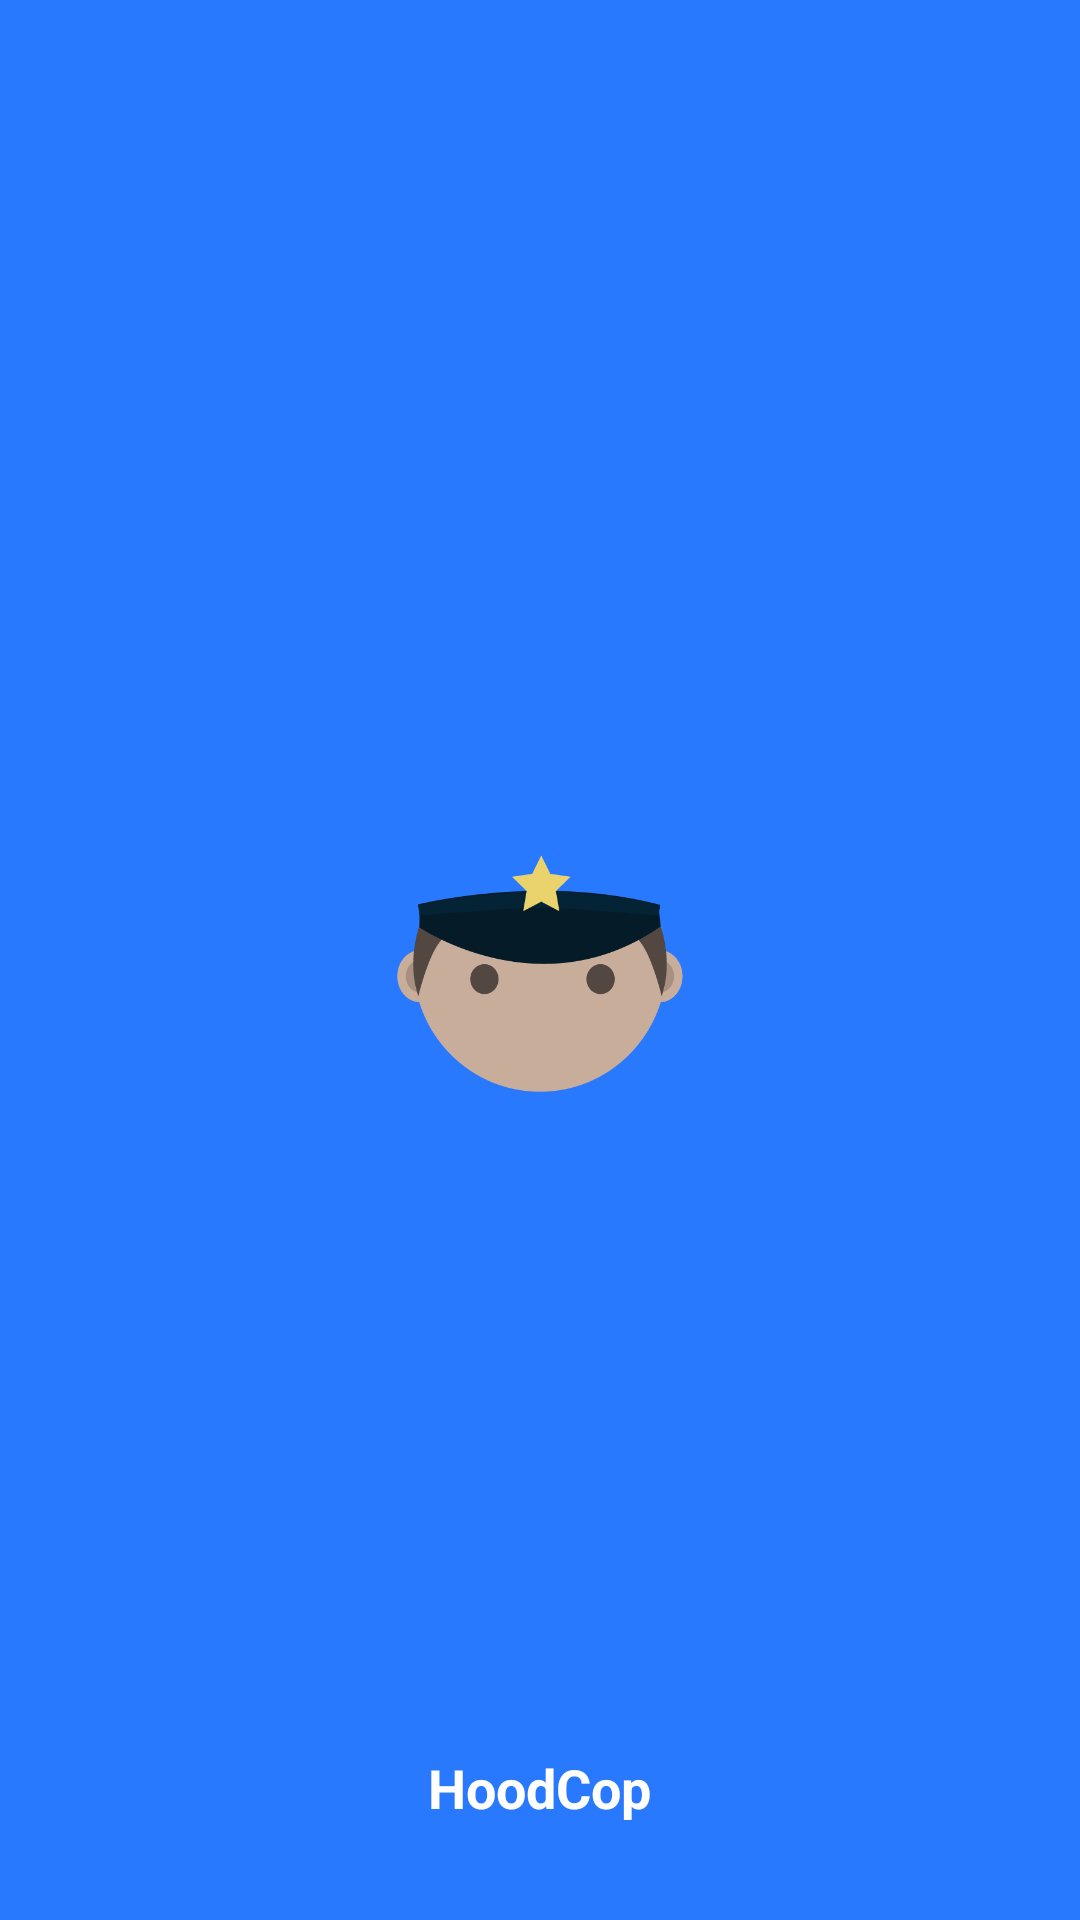

Screen size 1080px x 1920px. Icon name, then its box in pixels as (x1, y1, x2, y2):
hoodcop: (397, 856, 683, 1092)
